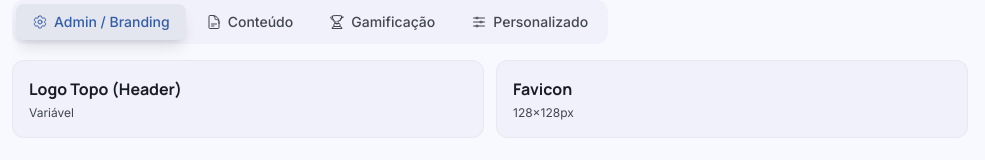
Test: GenerateSectionType › switches category tab to show different types
Click the tab "Conteúdo". click: (249, 22)
box: 190,4 -> 309,40
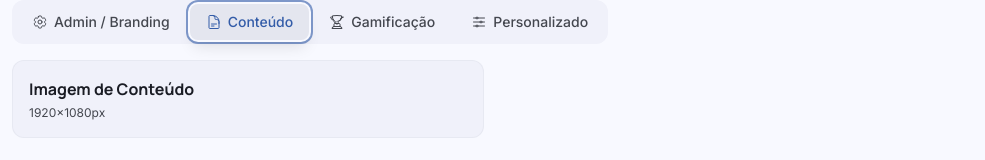
expect the text "Imagem de Conteúdo" is shown: met, box 29,78 -> 194,100
